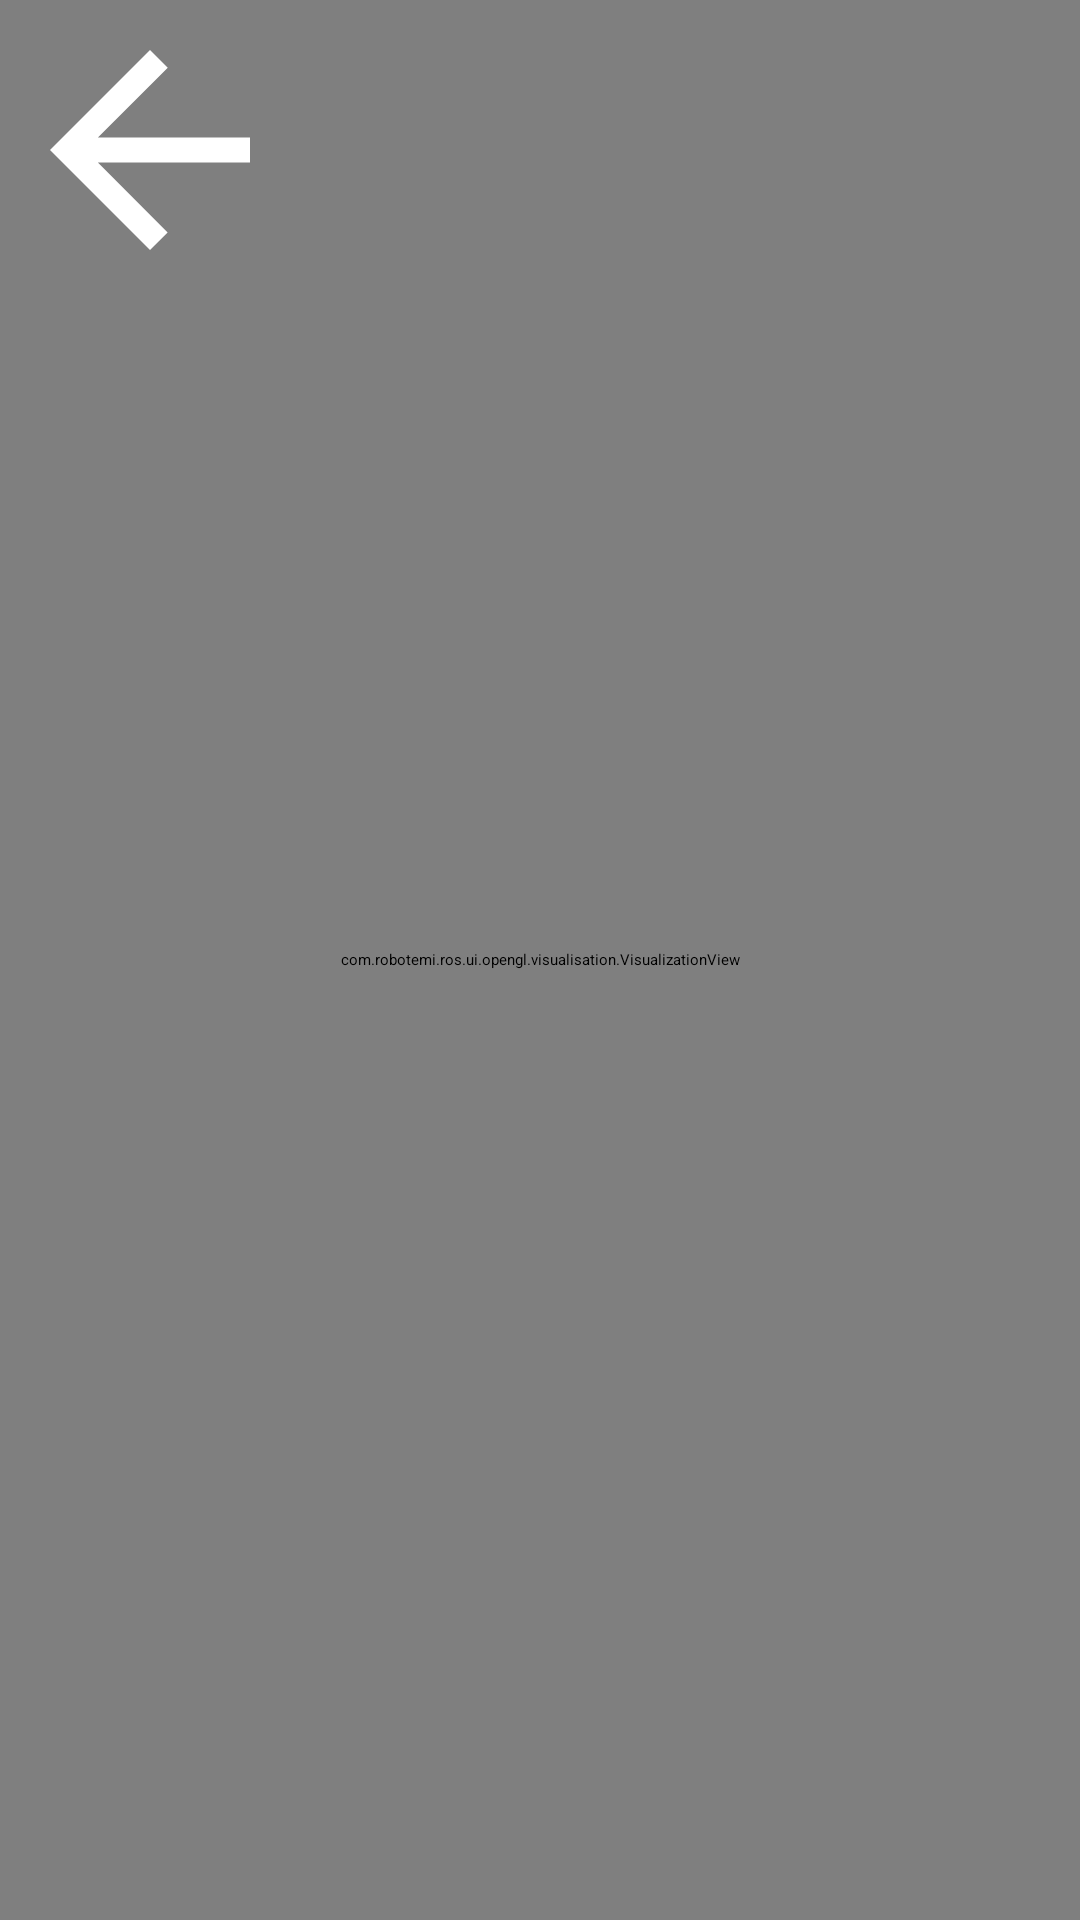

Icons on this 1080w x 1920h Android screen, each with its box as (x1, y1, x2, y2):
back: (50, 50, 250, 250)
